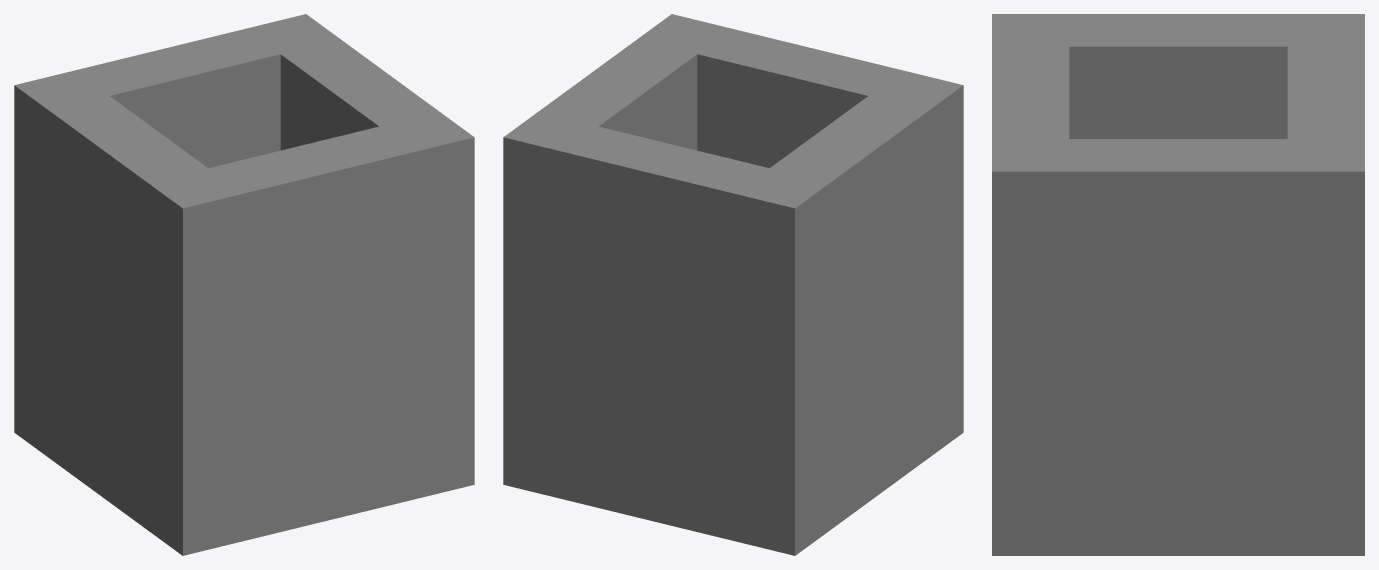
File: ConnectorTop.obj
3 renders of one model, left to right at view 1: azimuth 30°, elevation 25°; view 2: azimuth 150°, elevation 25°; view 3: azimuth 270°, elevation 25°, orthographic. The views are drawn at different scales.
Visible parts, largest first — view 1: FluidConduit_Cube.022; view 2: FluidConduit_Cube.022; view 3: FluidConduit_Cube.022.
Part boxes in pixels (left/top/right/bottom): FluidConduit_Cube.022: left=14, top=14, right=474, bottom=555; FluidConduit_Cube.022: left=503, top=14, right=963, bottom=555; FluidConduit_Cube.022: left=992, top=14, right=1364, bottom=555.
Bounding box in the file's own units: 0.3625 × 0.4125 × 0.3625.
